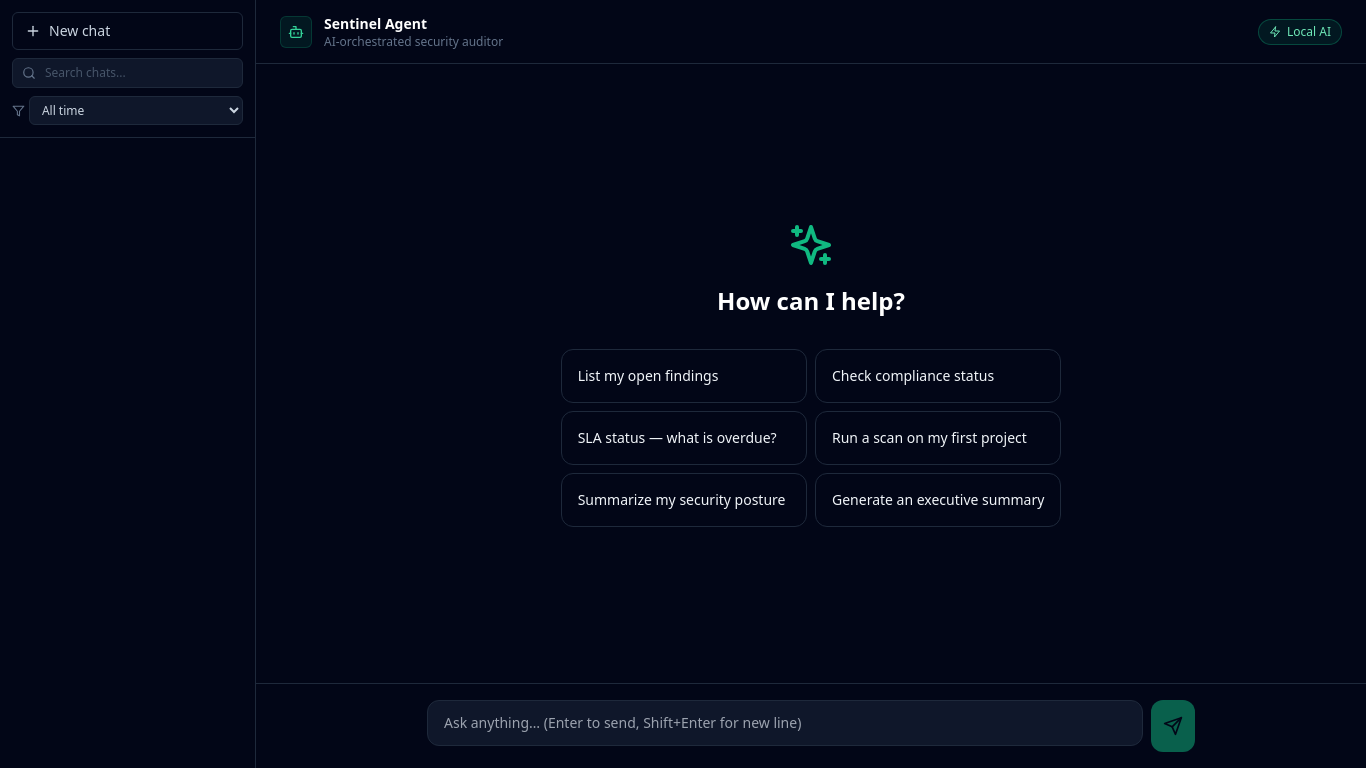
Chat integration flow › renders error message when gateway throws
Click the button "Generate an executive summary" at (938, 500), box [815,472,1061,526]
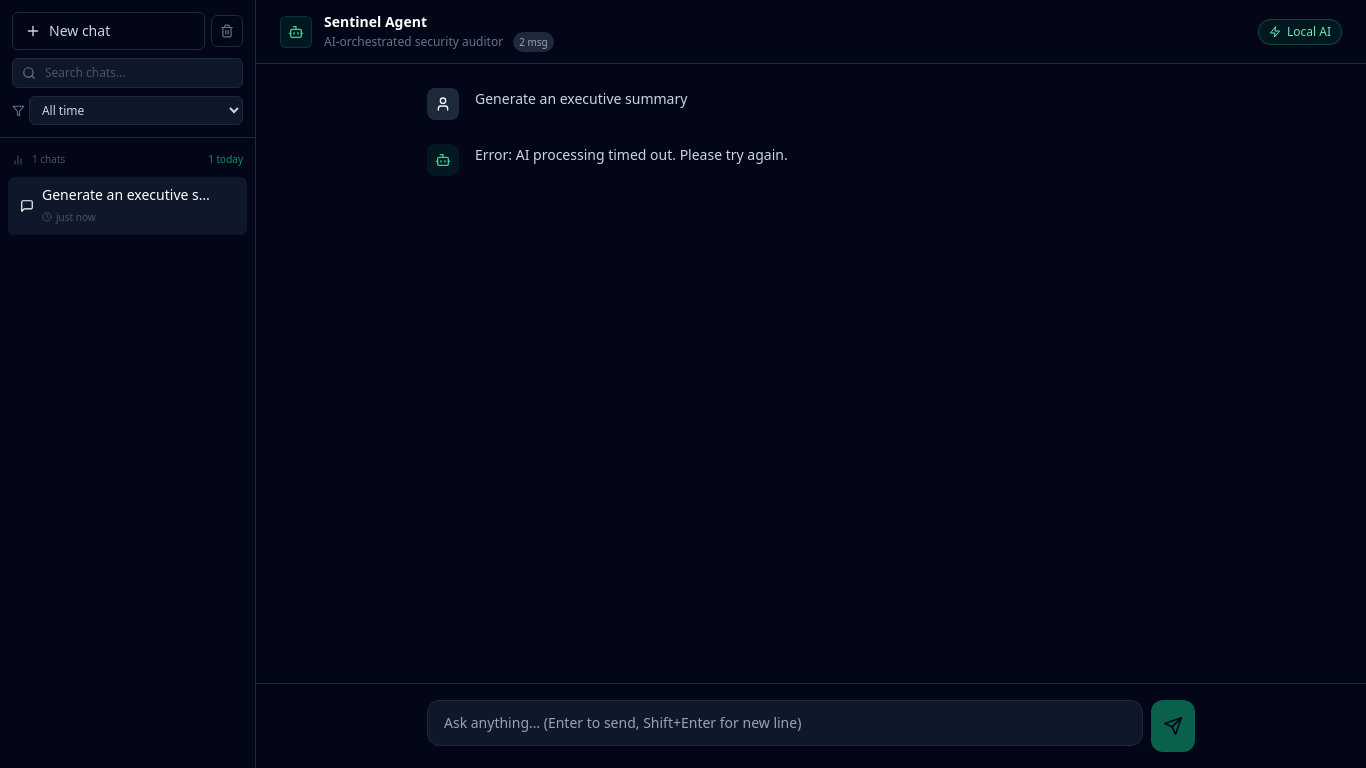
Now the text "Error: AI processing timed out. Please try again." is shown, box [475,145,788,164]
